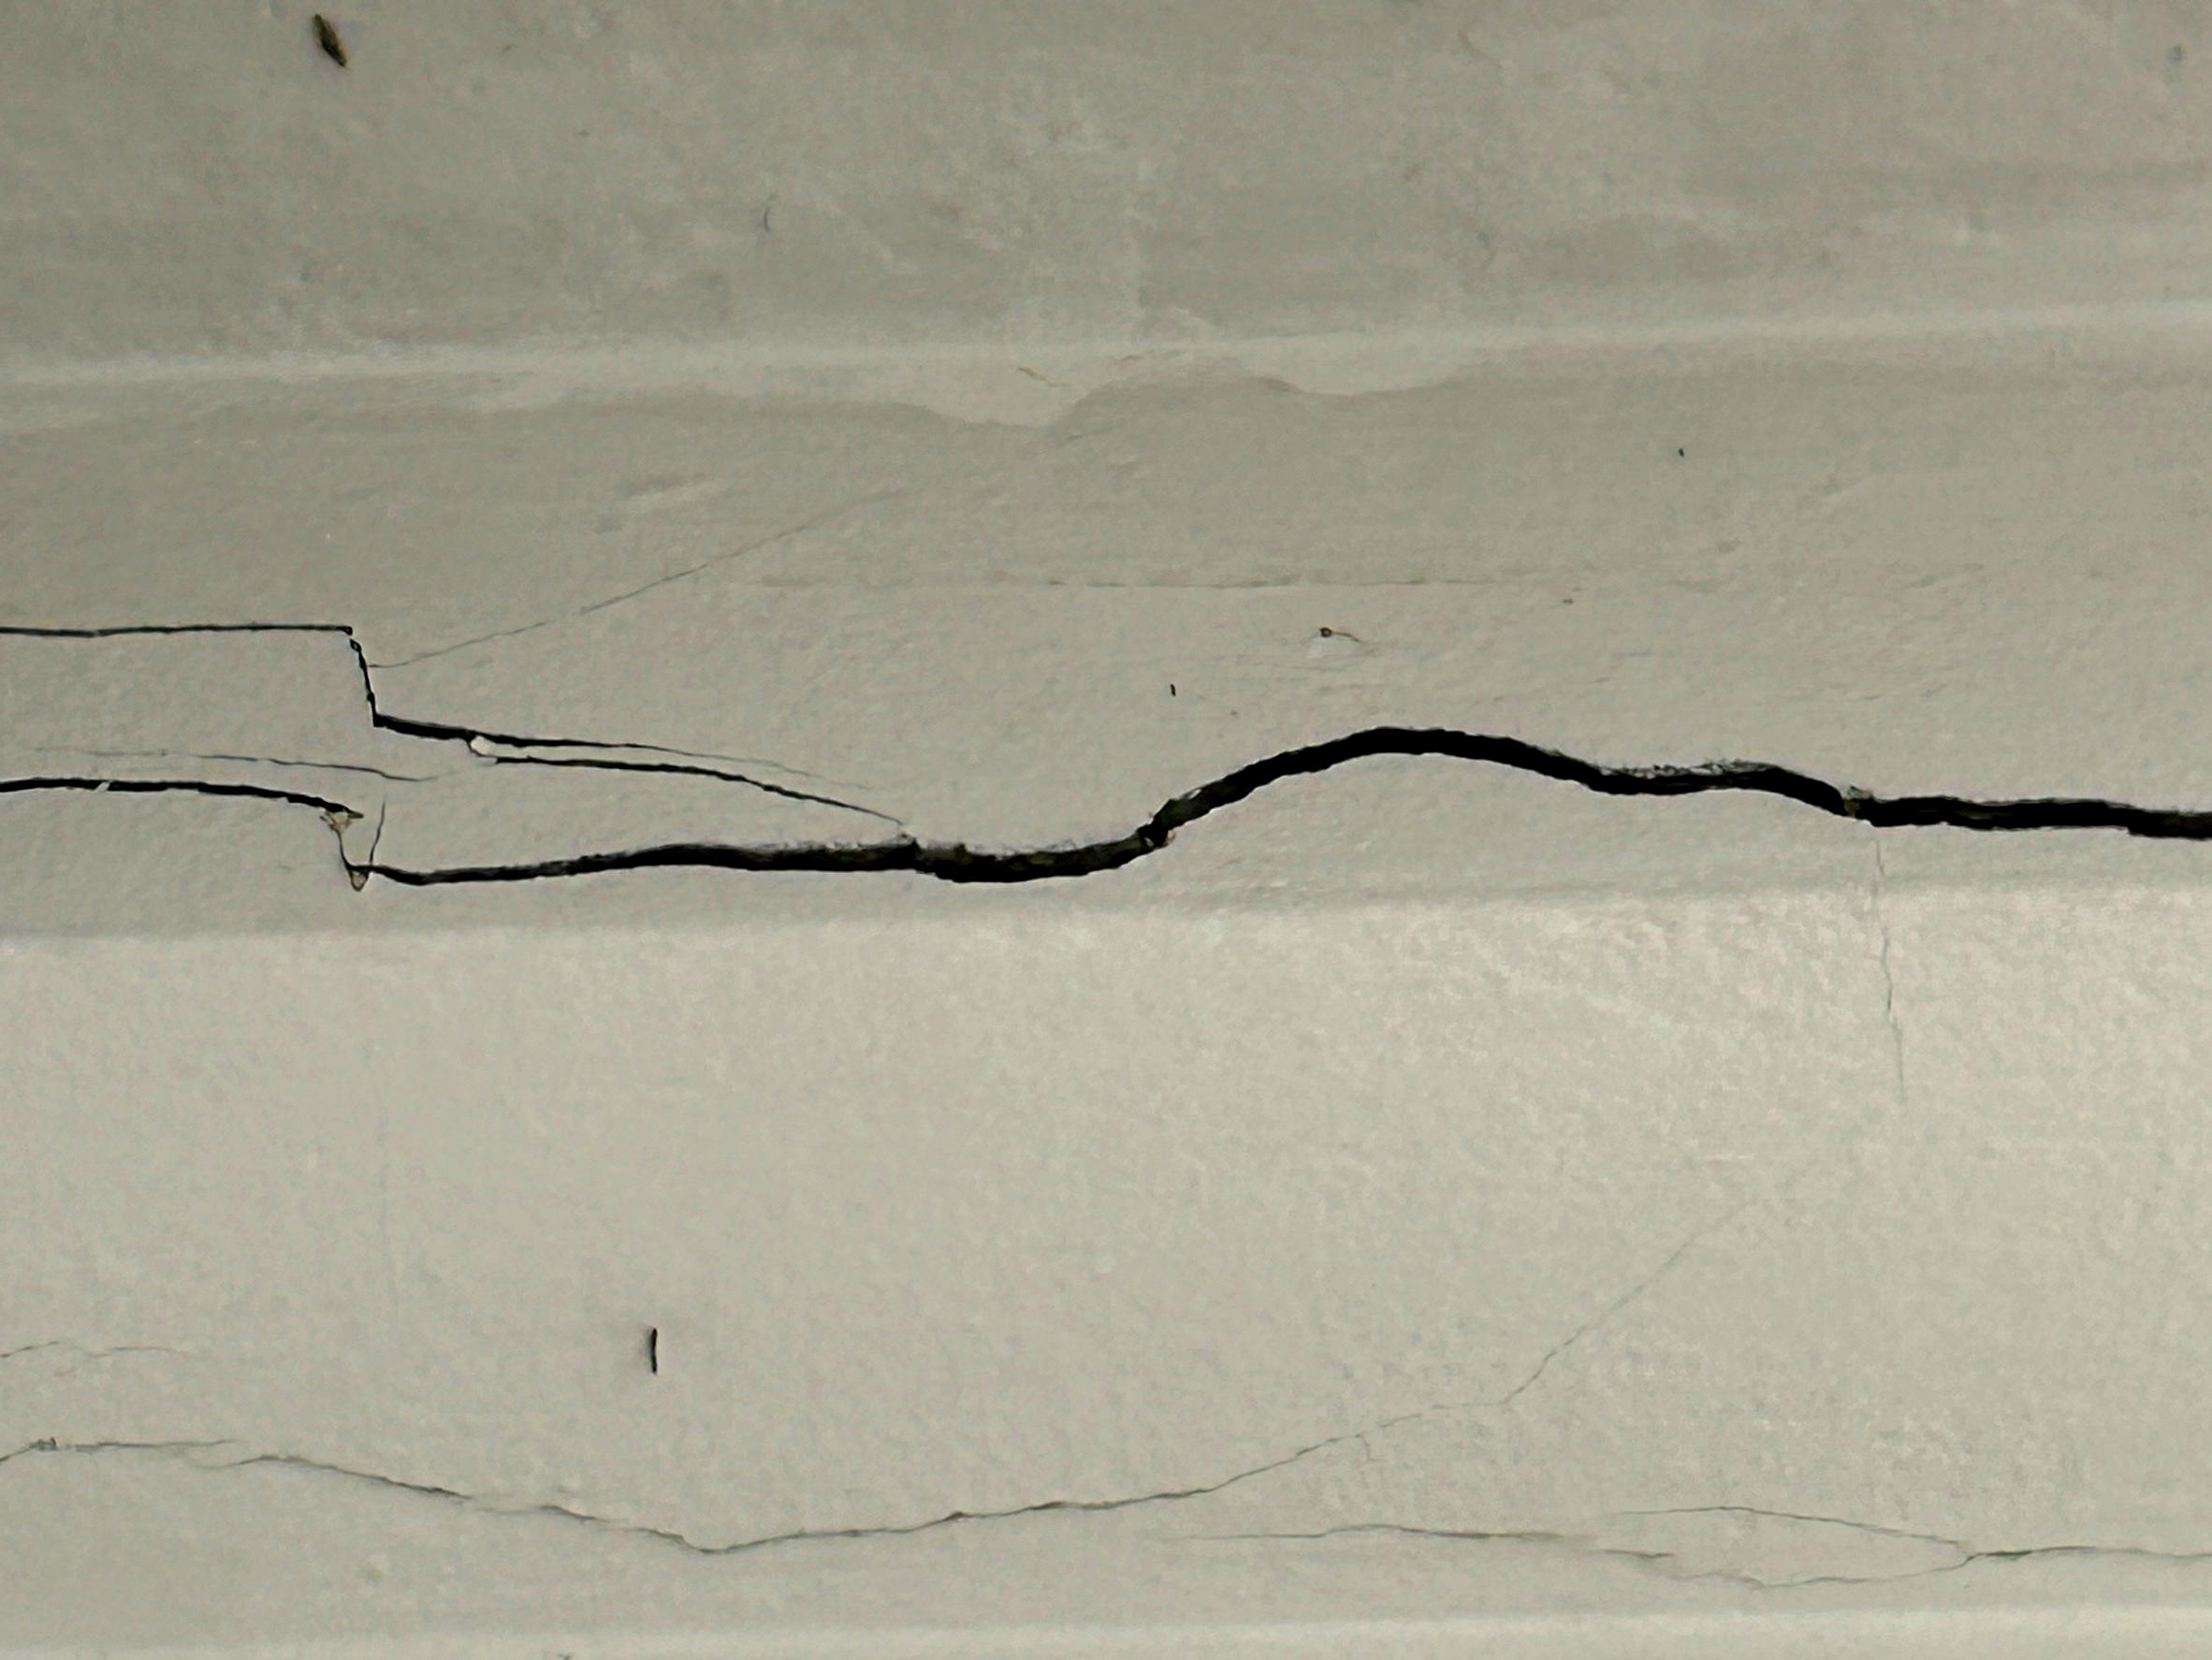High: (9, 565, 2212, 1013)
